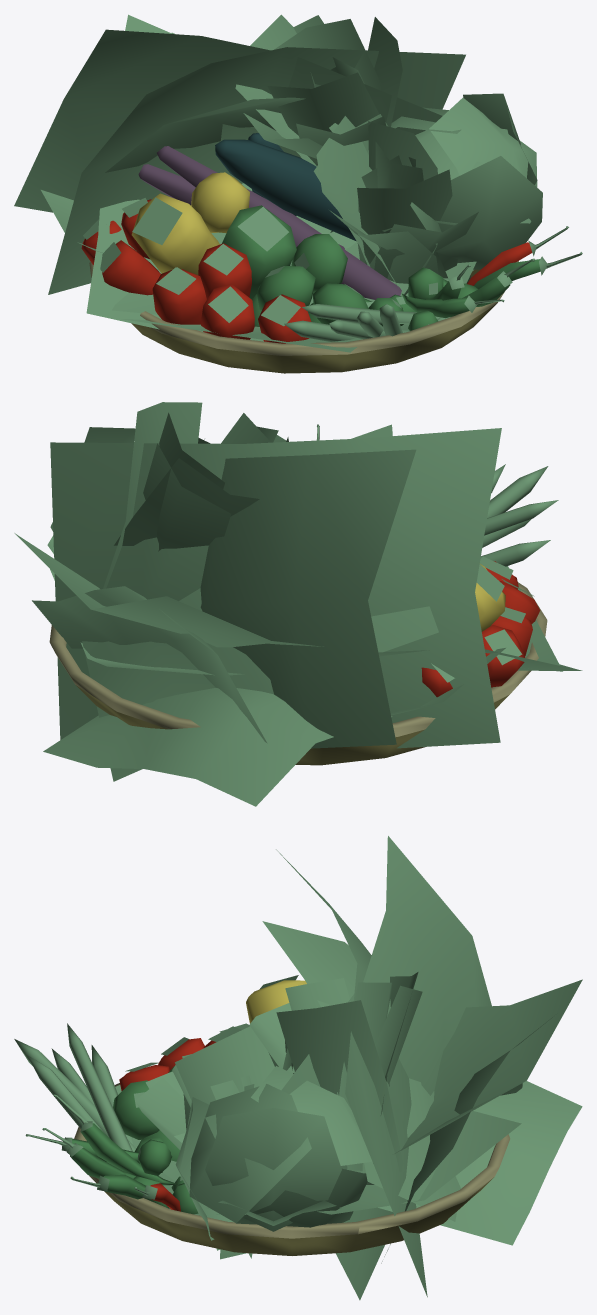
The model's file is GPBX01.FBX.
The picture shows the model from 3 angles, top to bottom: view 1: azimuth 30°, elevation 25°; view 2: azimuth 150°, elevation 25°; view 3: azimuth 270°, elevation 25°; orthographic projection. The views are drawn at different scales.
Visible parts, largest first — view 1: GPBX01; view 2: GPBX01; view 3: GPBX01.
Boxes of the visible parts, x1,y1,x2,y2 form: GPBX01: [14, 14, 582, 373]; GPBX01: [14, 402, 582, 806]; GPBX01: [14, 836, 582, 1300].
Bounding box in the file's own units: 45.46 × 49.11 × 32.21.
